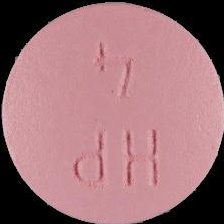55154-4180: (0, 0, 224, 224)
